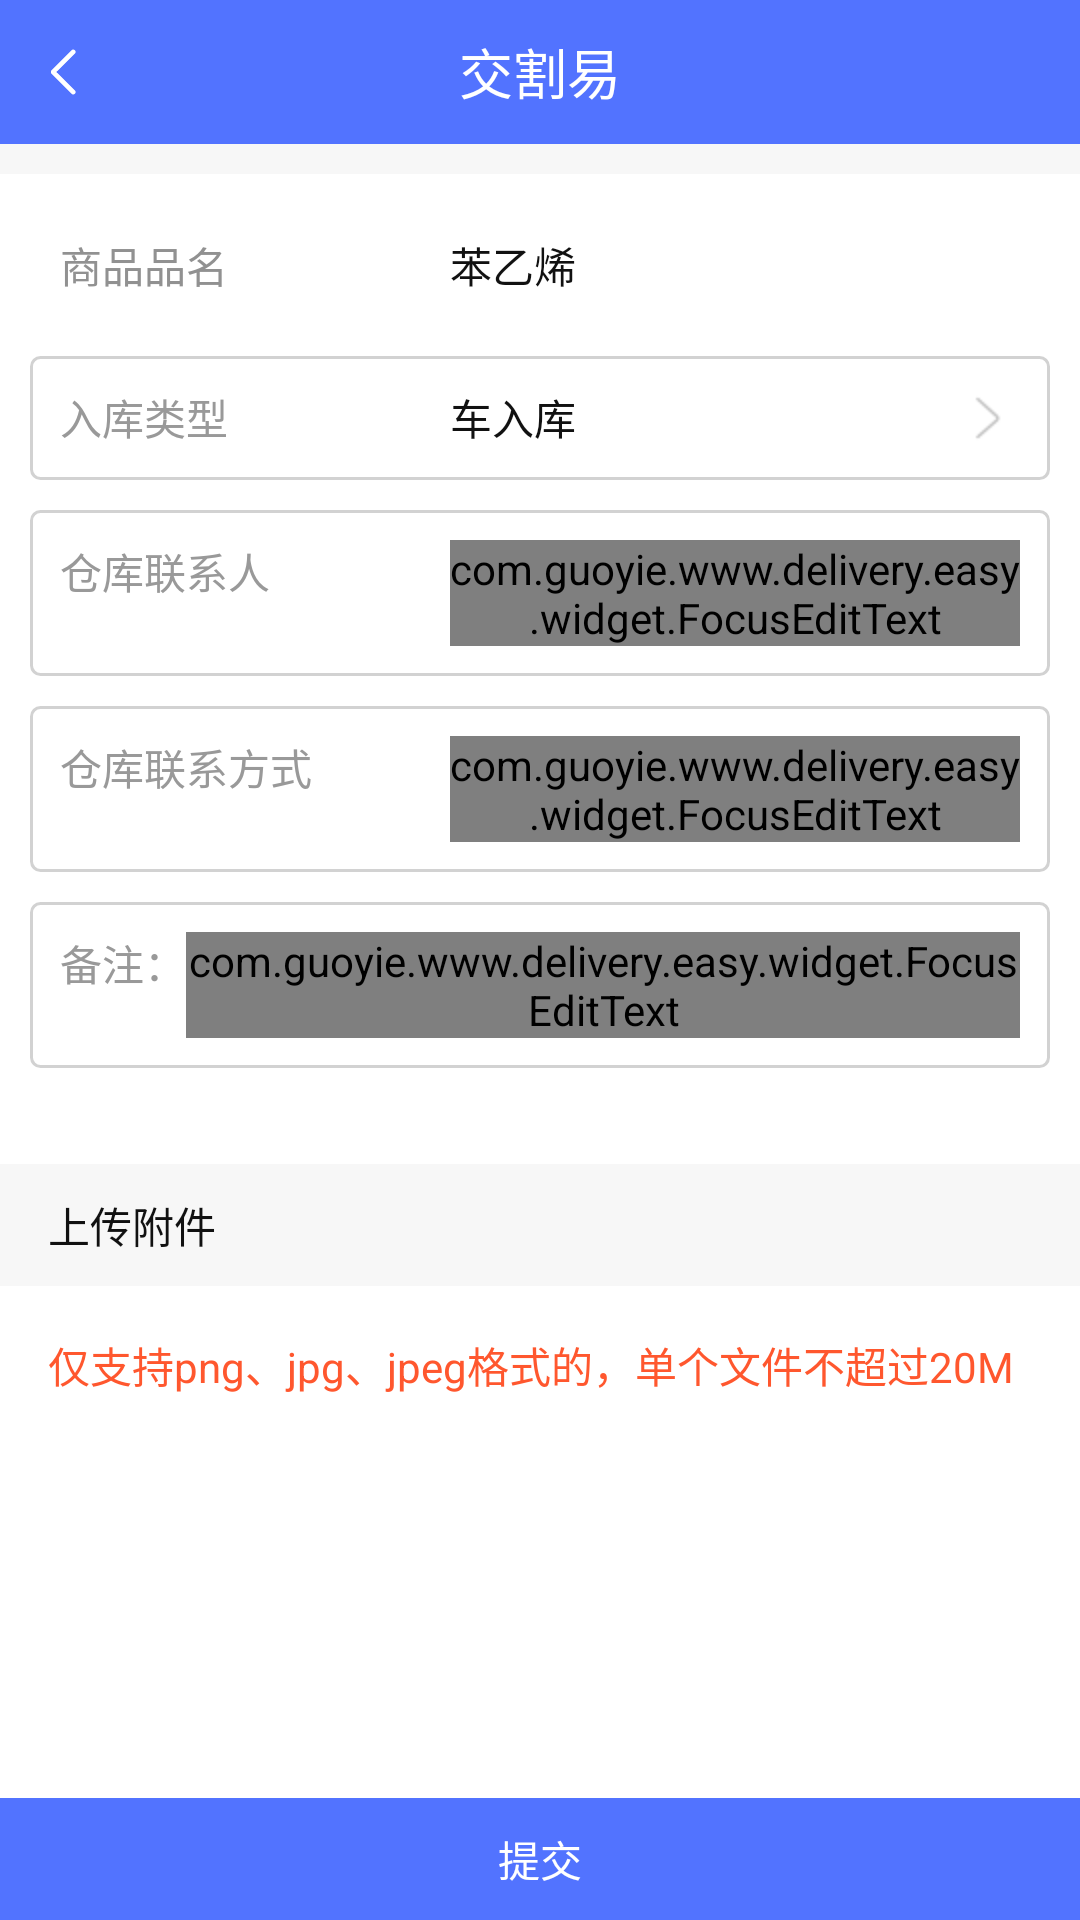

Point at icon controls on the screen. Image size 1080 x 1920, points as (x,y).
left arrow: (63,72)
right: (987,418)
